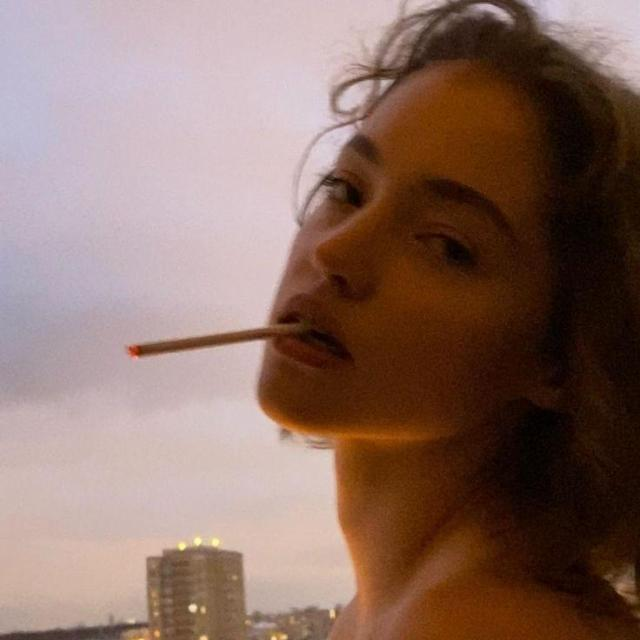cigarette: (114, 325, 320, 363)
